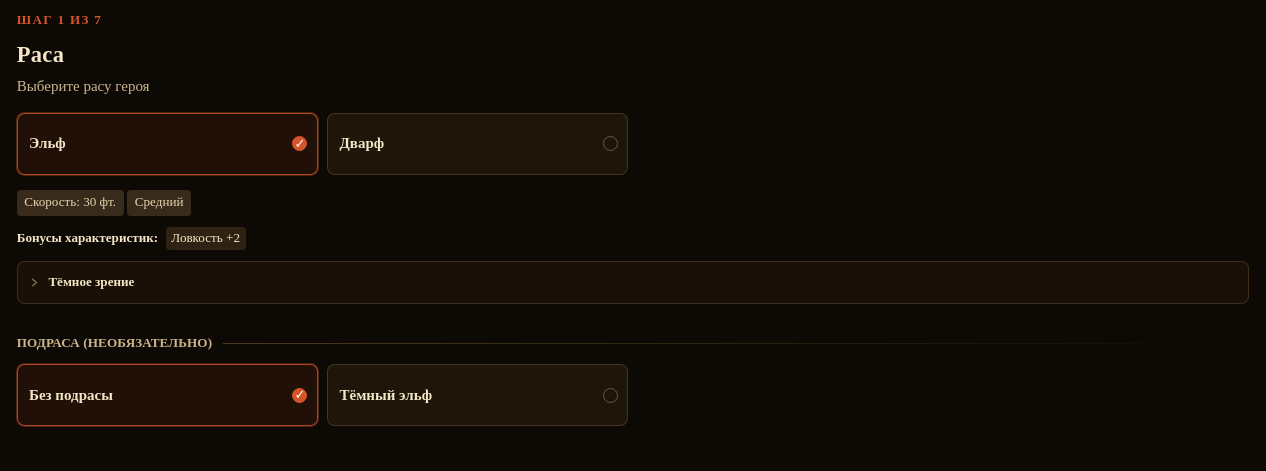
it: StepRace › shows race features as collapsible accordions
Expected: the text "Тёмное зрение" is shown, x1=48 y1=273 x2=134 y2=292
Click the button "Тёмное зрение" at {"x": 91, "y": 282}, box x1=28 y1=273 x2=1238 y2=292
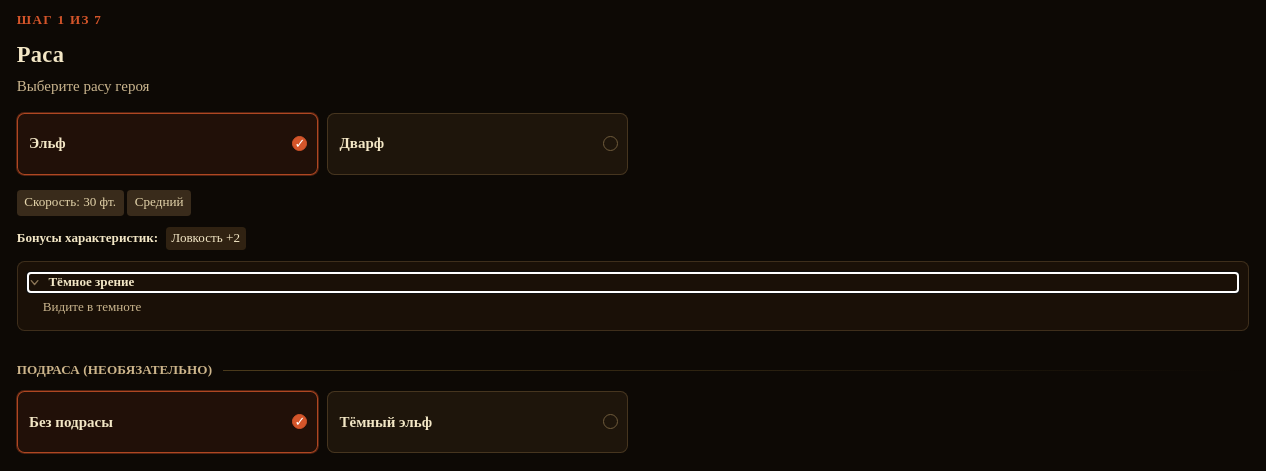
Now the text "Видите в темноте" is shown, box x1=43 y1=299 x2=141 y2=314
